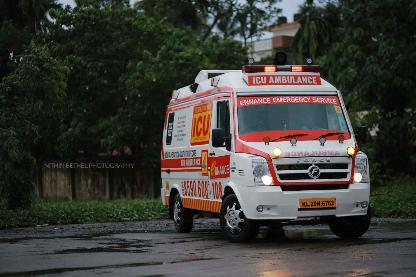priority: (158, 61, 371, 240)
